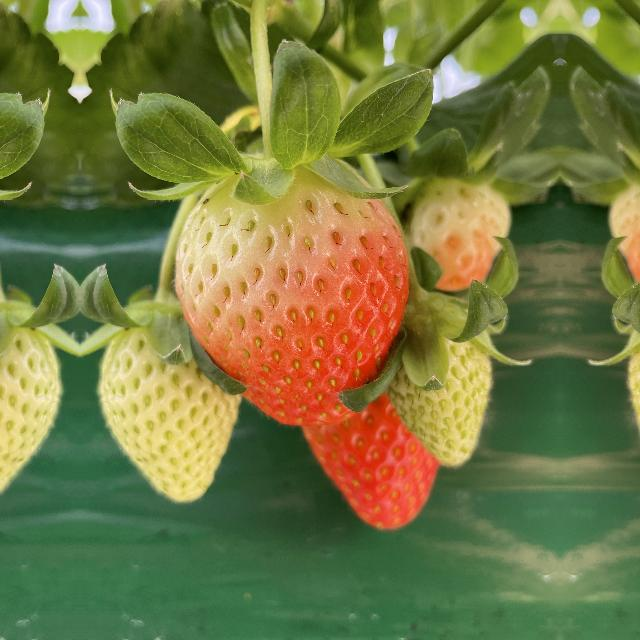Health_25: (93, 314, 241, 506), (392, 310, 496, 472), (0, 314, 67, 505)
Health_75: (165, 142, 412, 416)
